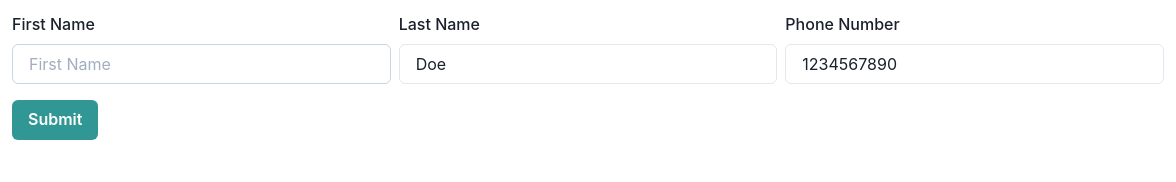
Test: ContactForm › should show required error on first submitting, when firstName is not provided
The width and height of the screenshot is (1176, 182).
Expected: the text "first name is required" is not shown
Click the button "Submit".
click(55, 120)  # box [12, 100, 98, 140]
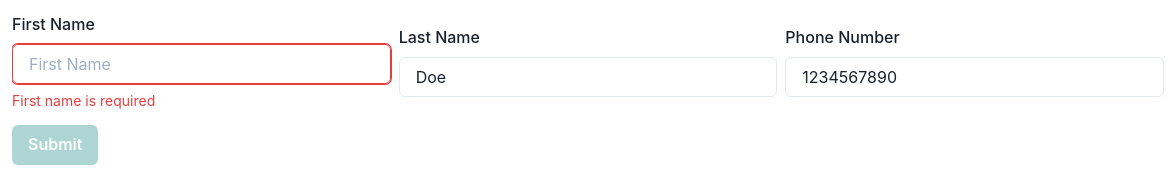
Expected: the text "First name is required" is shown, [12, 92, 155, 109]
